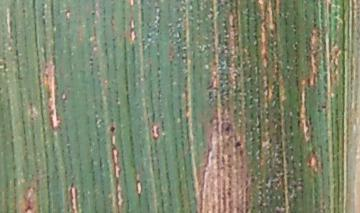tarspot: (221, 122, 233, 135), (107, 121, 117, 136), (232, 138, 243, 150), (316, 104, 328, 114)
